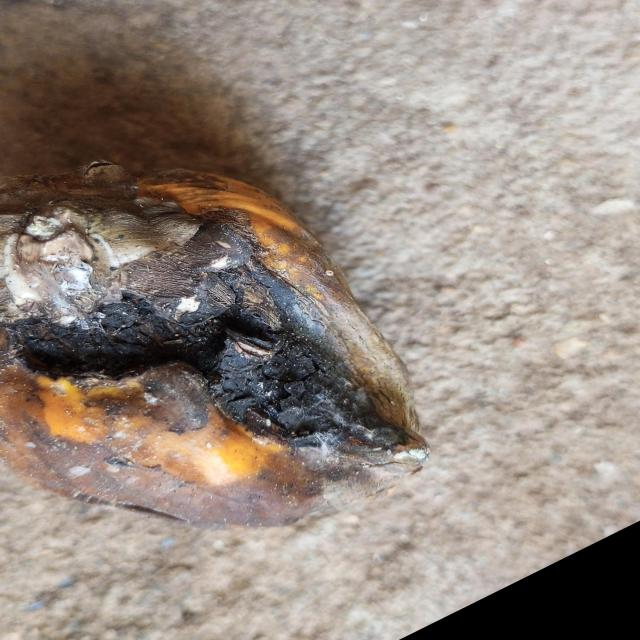damaged: (0, 136, 429, 532)
